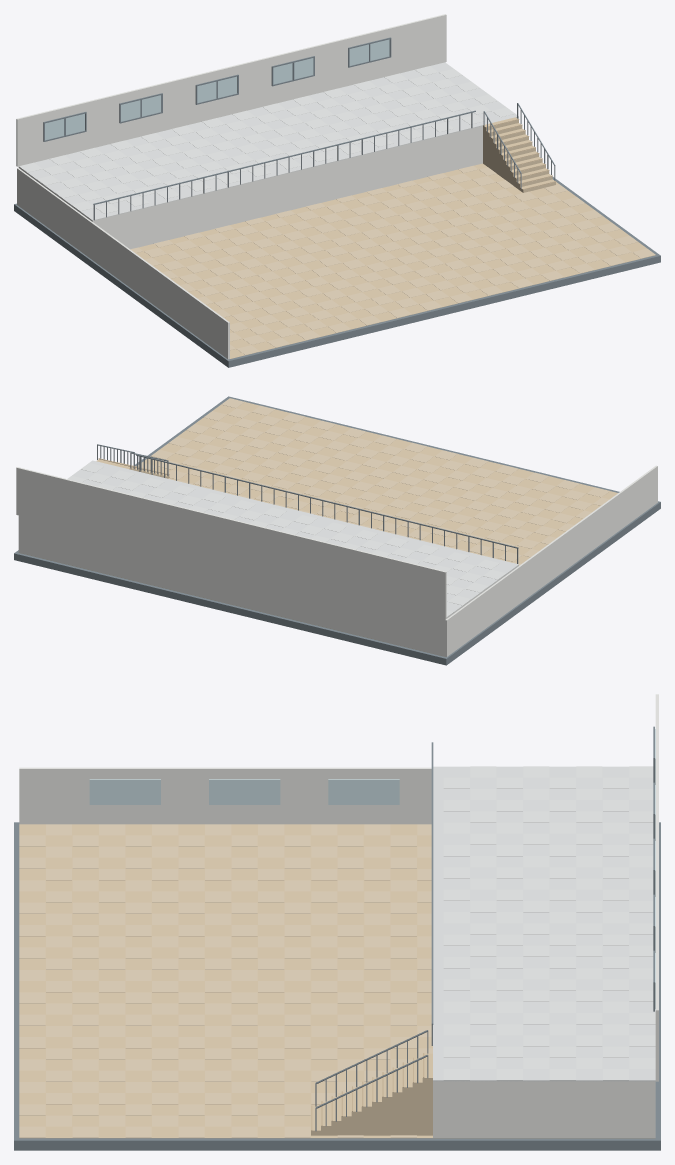
Rendered from office_empty.glb.
The picture shows the model from 3 angles, top to bottom: view 1: azimuth 30°, elevation 25°; view 2: azimuth 150°, elevation 25°; view 3: azimuth 270°, elevation 25°; orthographic projection. The views are drawn at different scales.
Parts seen in each view (by area): view 1: lower_floor_2, raised_wing_floor_340, rear_wall_453, raised_wing_base_339, left_wall_484, foundation_1, balcony_top_488, rear_window_460, rear_window_478, rear_window_472, rear_window_466, rear_window_454; view 2: rear_wall_453, lower_floor_2, raised_wing_base_339, left_wall_484, raised_wing_floor_340, foundation_1, balcony_top_488; view 3: lower_floor_2, raised_wing_floor_340, left_wall_484, raised_wing_base_339, foundation_1, side_window_487, side_window_486, side_window_485, rear_wall_453, stair_step_565, balcony_top_488, stair_step_561 (+3 smaller).
Boxes of the visible parts, <box> form: lower_floor_2: <box>136,163,655,358</box>; raised_wing_floor_340: <box>19,62,518,220</box>; rear_wall_453: <box>16,14,446,166</box>; raised_wing_base_339: <box>18,117,518,249</box>; left_wall_484: <box>17,168,229,359</box>; foundation_1: <box>14,177,660,367</box>; balcony_top_488: <box>93,110,475,204</box>; rear_window_460: <box>121,95,161,121</box>; rear_window_478: <box>349,39,389,65</box>; rear_window_472: <box>273,58,313,84</box>; rear_window_466: <box>197,76,237,102</box>; rear_window_454: <box>45,113,84,140</box>; rear_wall_453: <box>16,467,446,619</box>; lower_floor_2: <box>20,402,617,656</box>; raised_wing_base_339: <box>18,515,518,656</box>; left_wall_484: <box>445,465,657,656</box>; raised_wing_floor_340: <box>72,460,518,617</box>; foundation_1: <box>14,396,660,665</box>; balcony_top_488: <box>136,454,518,548</box>; lower_floor_2: <box>19,824,655,1138</box>; raised_wing_floor_340: <box>433,766,655,1081</box>; left_wall_484: <box>19,767,431,824</box>; raised_wing_base_339: <box>433,1081,655,1137</box>; foundation_1: <box>14,822,660,1150</box>; side_window_487: <box>89,779,160,804</box>; side_window_486: <box>209,779,280,804</box>; side_window_485: <box>328,779,399,804</box>; rear_wall_453: <box>655,694,658,1081</box>; stair_step_565: <box>422,1053,432,1135</box>; balcony_top_488: <box>431,742,433,1024</box>; stair_step_561: <box>412,1058,422,1135</box>.
Size of the model in its own units: 28.4 by 5.79 by 24.4.
